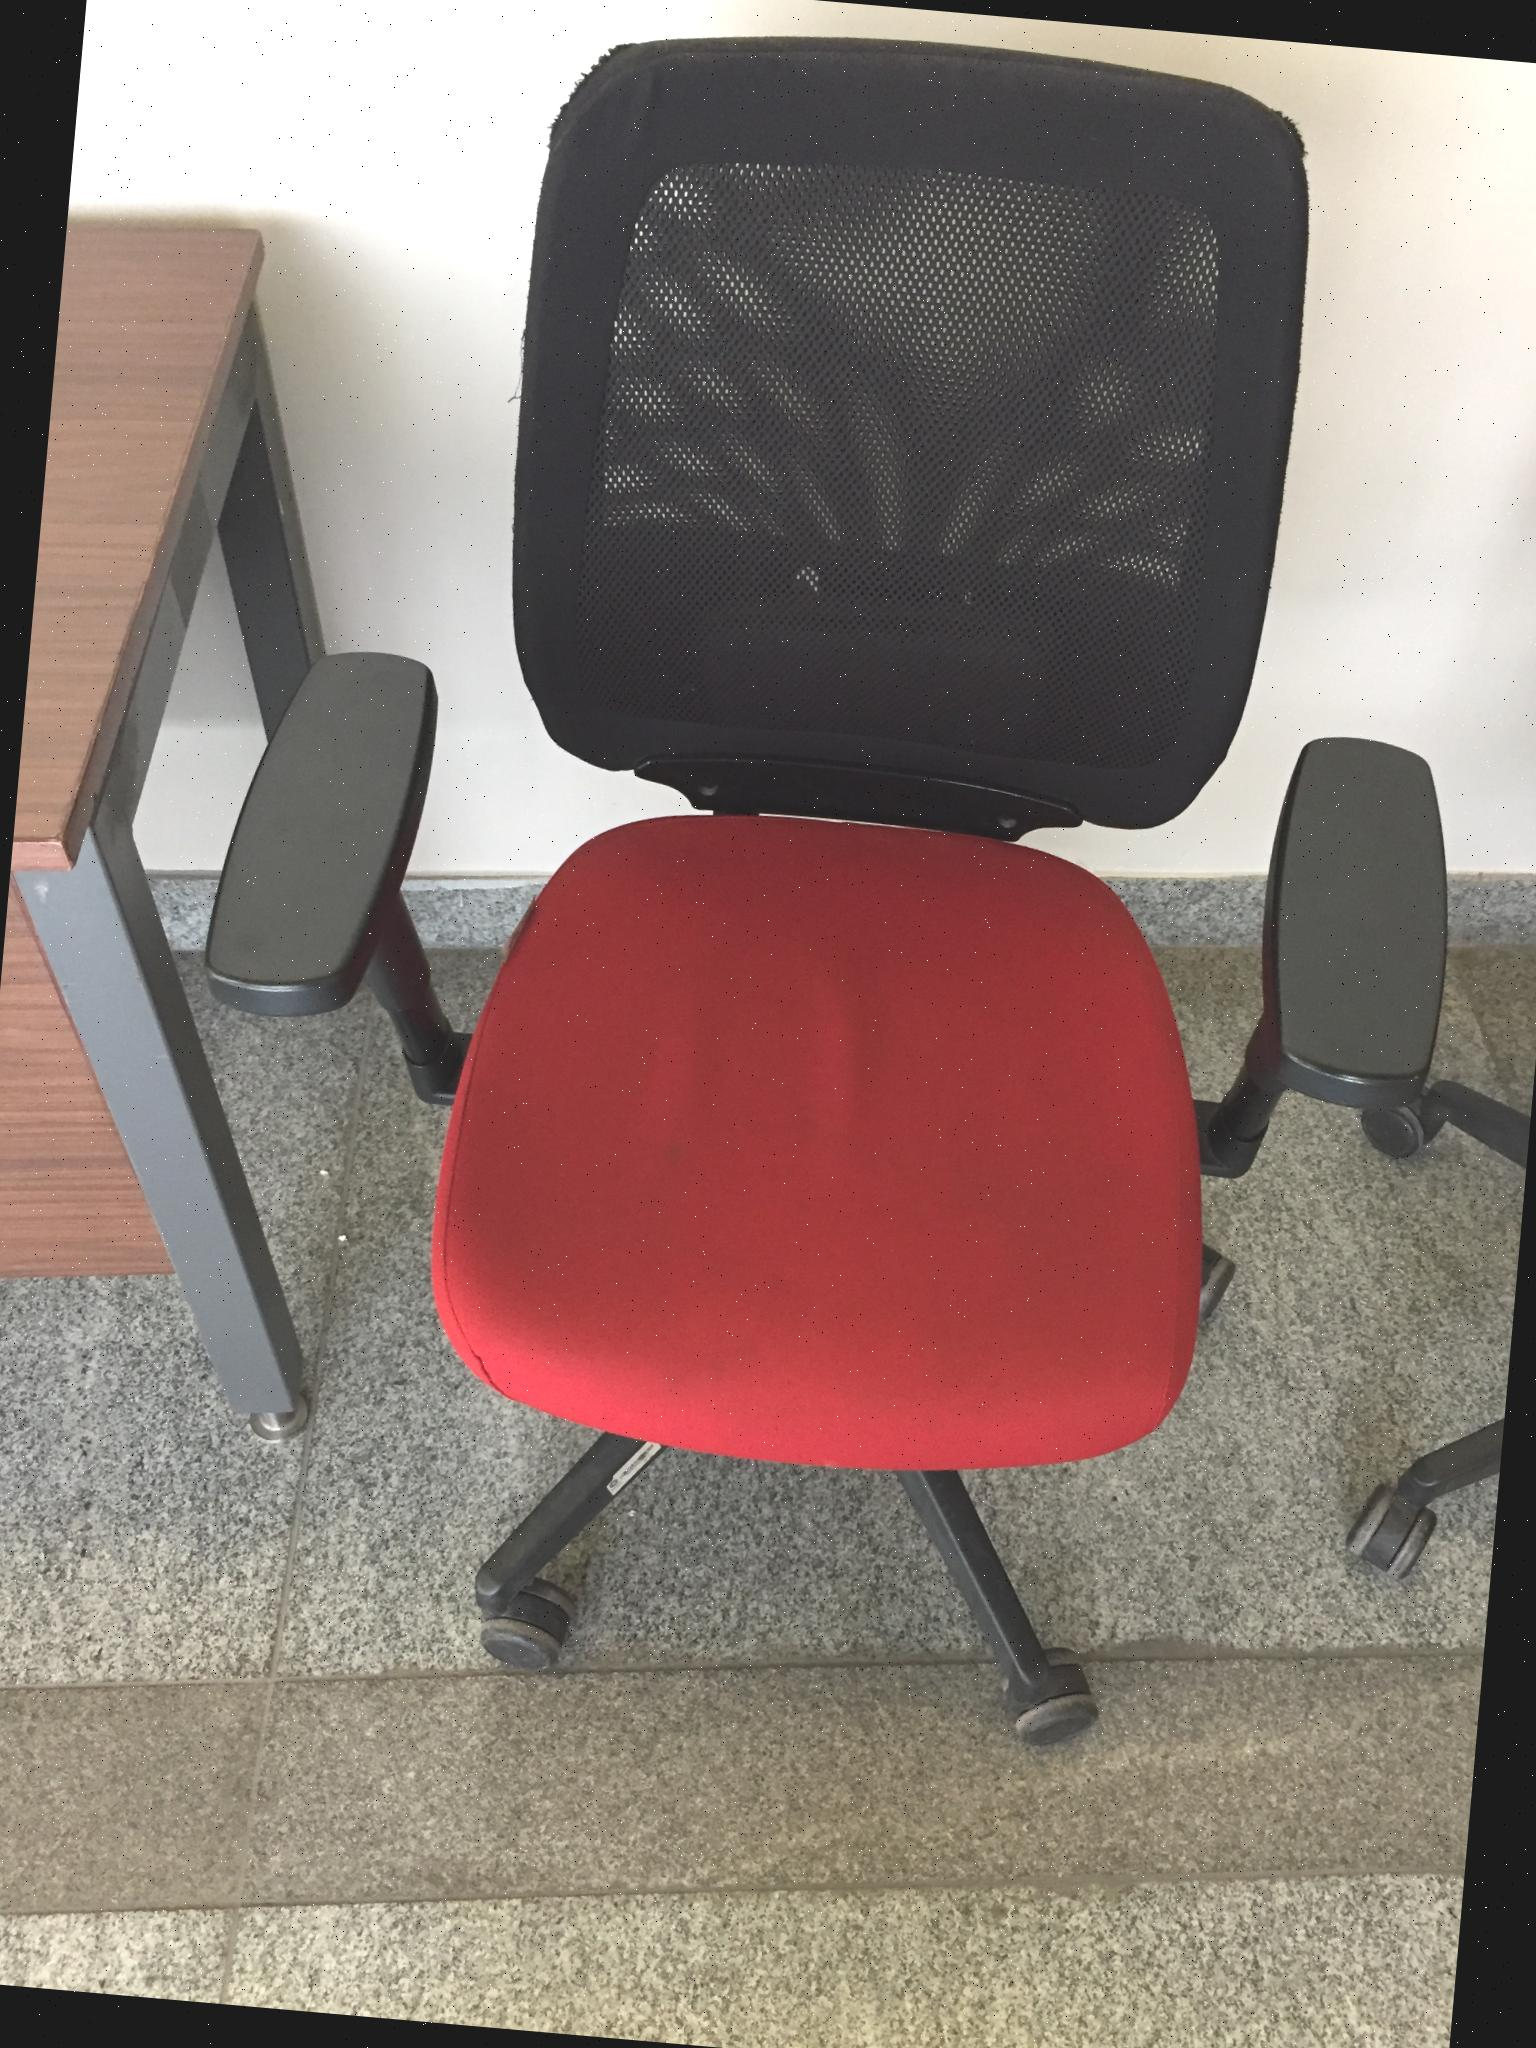chair: (158, 0, 1491, 1758), (1317, 884, 1536, 1674)
